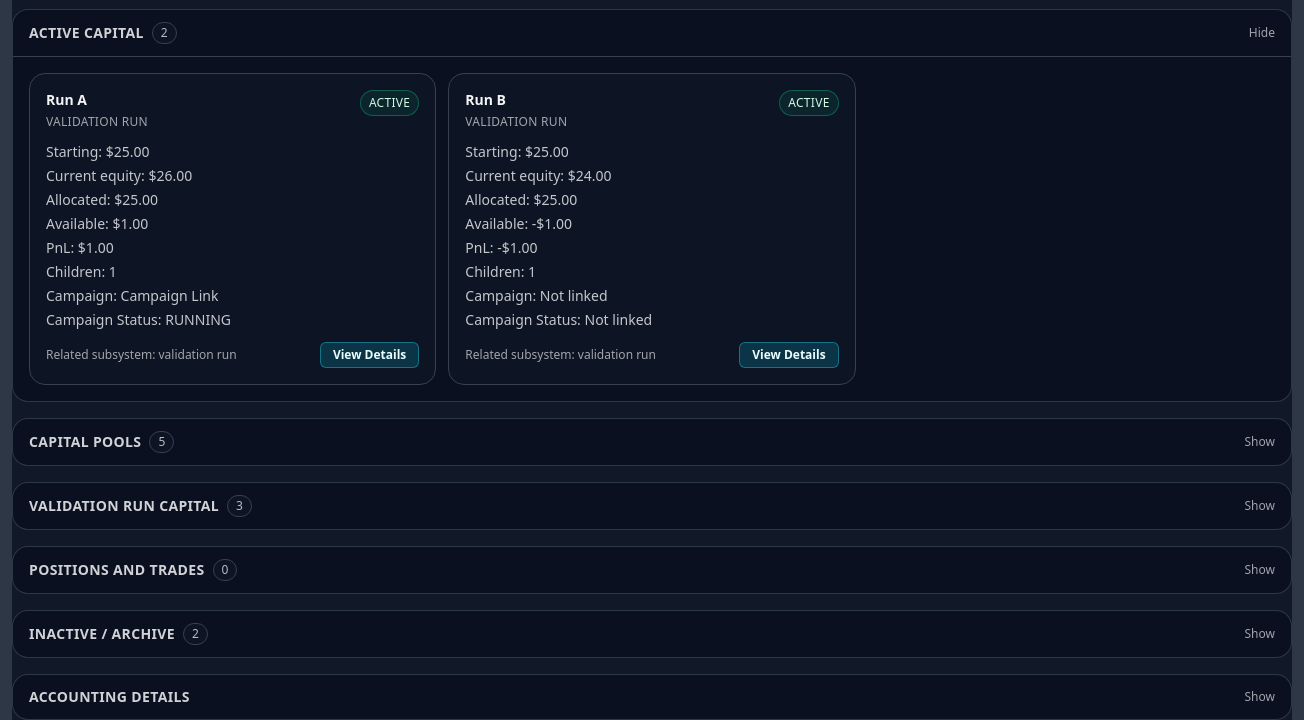
Test: CapitalPage › renders active pools and validation run capital rows
(page scrolled)
Expected: the text "Run A" is shown, [46, 90, 87, 108]
Expected: the text "Run B" is shown, [465, 90, 506, 108]
Click the button "Capital Pools 5 Show": click(85, 441) [13, 418, 1291, 464]
(page scrolled)
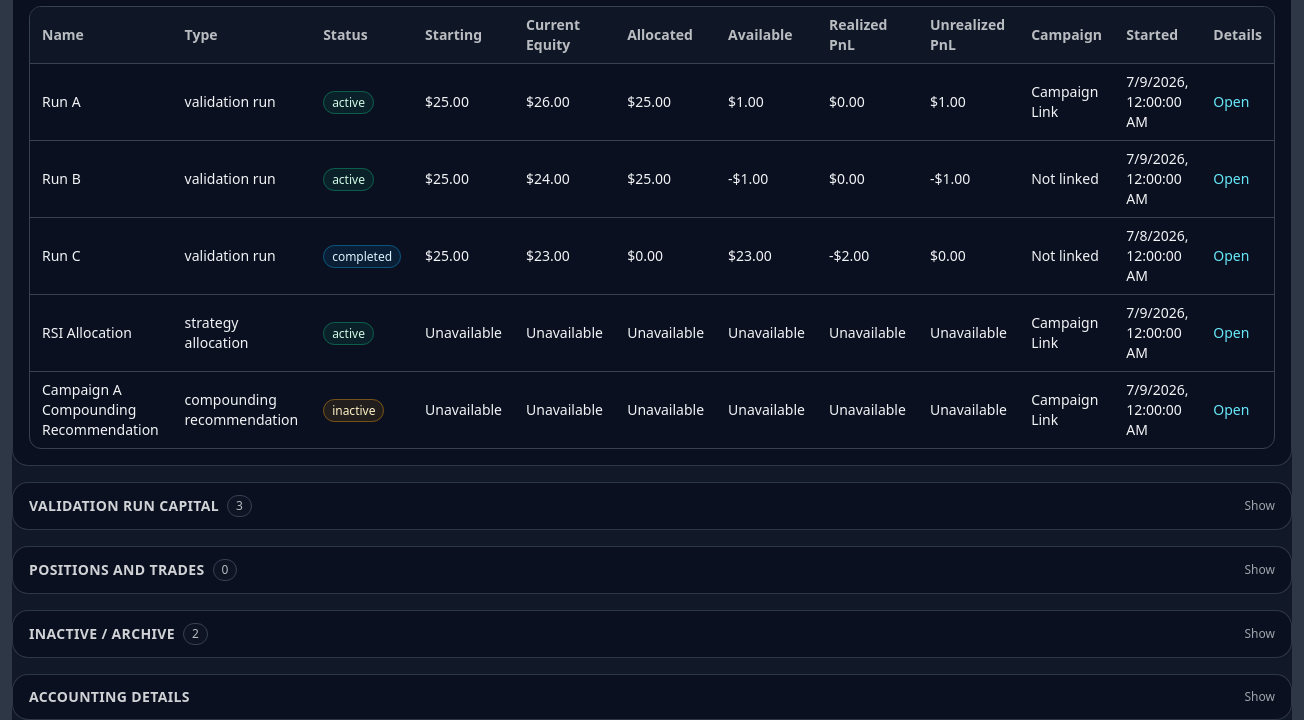
Now the 1st text "Campaign Link" is shown, box [1019, 63, 1114, 140]
Click the button "Validation Run Capital 3 Show": click(124, 505) [13, 482, 1291, 528]
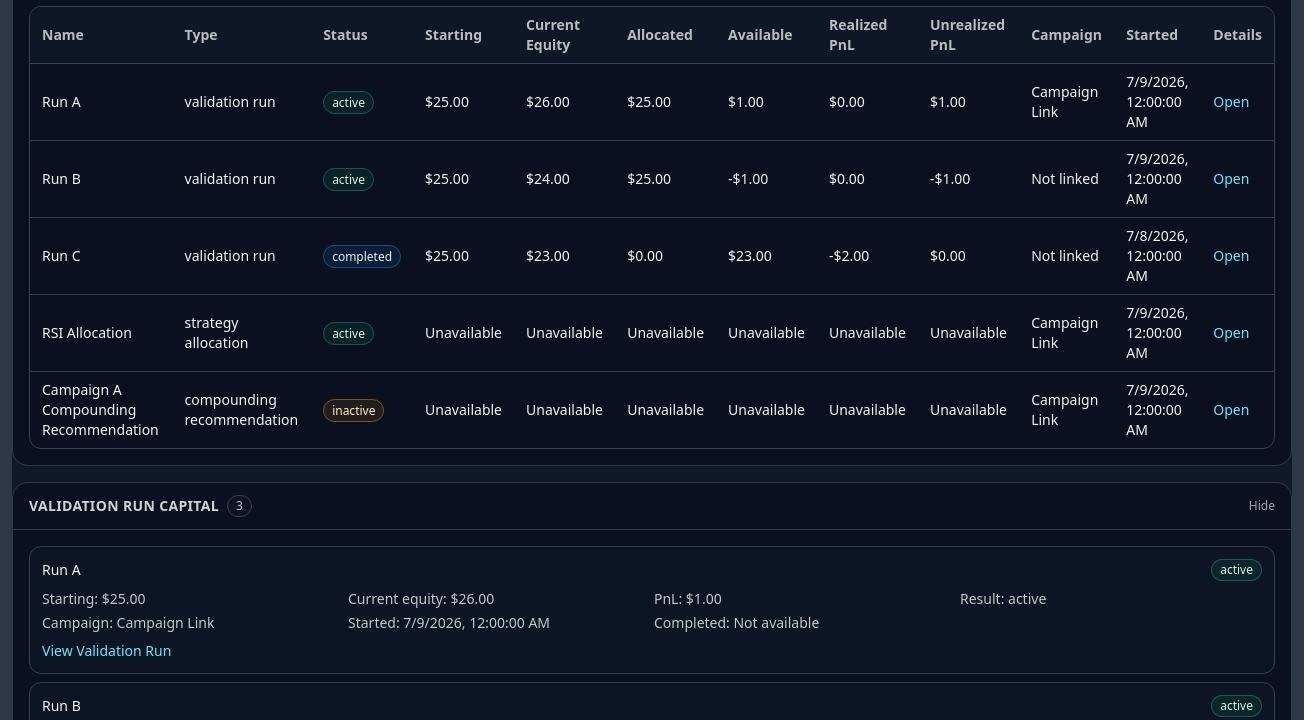
Now the link "View Validation Run" is shown, box [42, 640, 171, 660]
